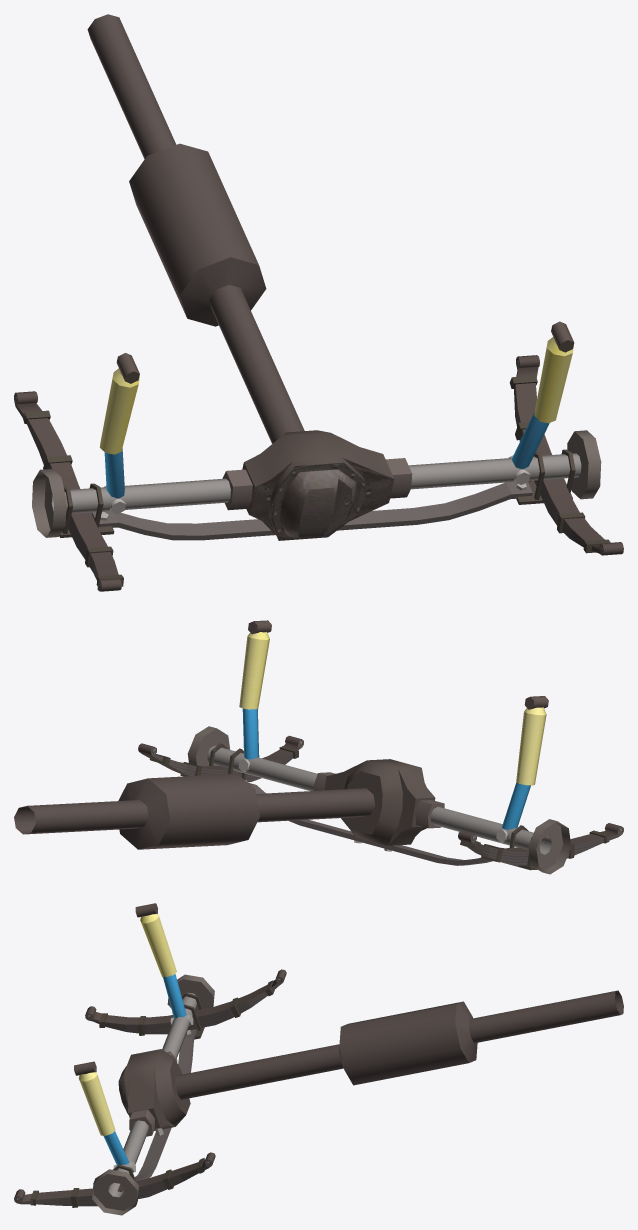
Rendered from MultiLink.fbx.
The picture shows the model from 3 angles, top to bottom: view 1: azimuth 30°, elevation 25°; view 2: azimuth 150°, elevation 25°; view 3: azimuth 270°, elevation 25°; orthographic projection. The views are drawn at different scales.
Parts seen in each view (by area): view 1: node_id370; view 2: node_id370; view 3: node_id370.
Boxes of the visible parts, x1,y1,x2,y2 form: node_id370: (14,14,623,591); node_id370: (14,620,623,874); node_id370: (14,903,623,1215).
Bounding box in the file's own units: 0.5318 × 0.2547 × 0.758.
Materials: 1 (1 with a texture image).
